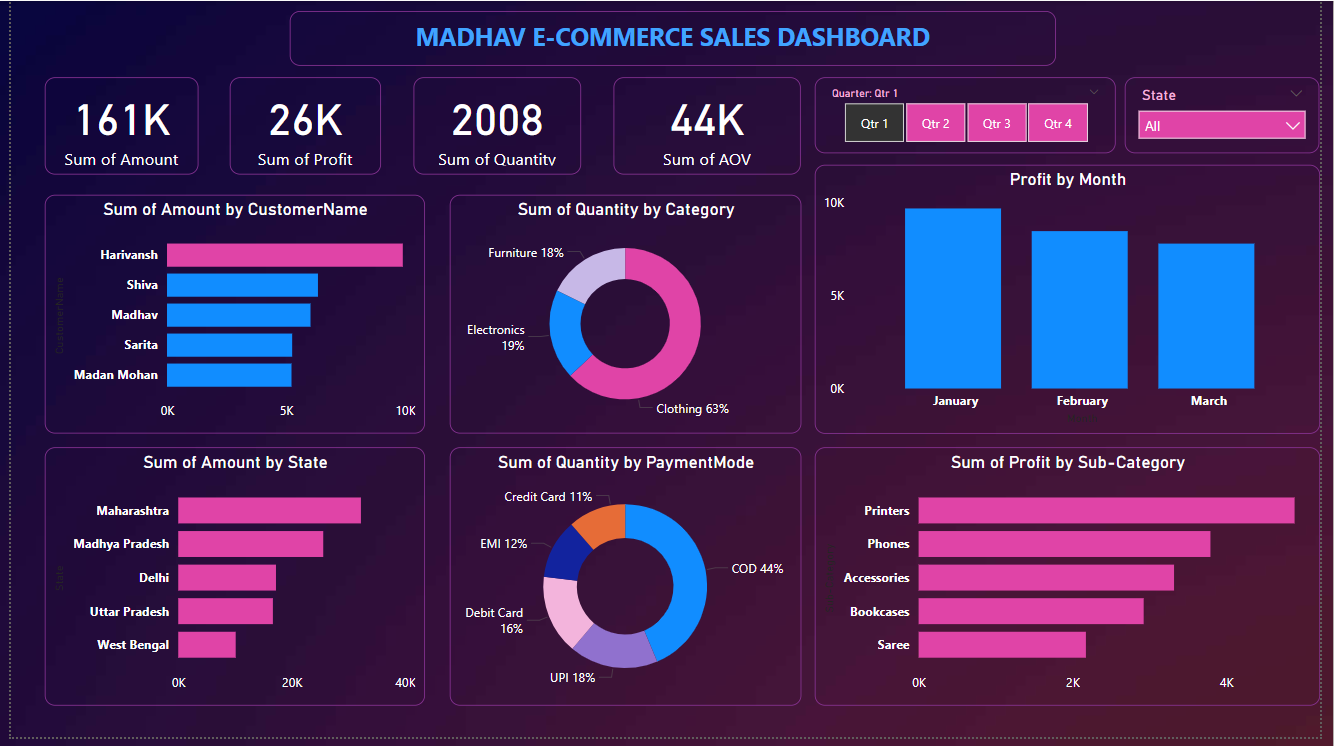

The page's visual inventory and layout, read from the dashboard file:
{"tool":"powerbi","page":{"name":"Page 1","canvas":[1280,720],"ordinal":0},"visuals":[{"type":"columnChart","title":"Profit by Month","fields":{"Category":["Orders.Order Date.Variation.Date Hierarchy.Month"],"Y":["Details.Profit"]},"box":[786.3,160.2,494,262.9],"z":1},{"type":"barChart","fields":{"Category":["Details.Sub-Category"],"Y":["Details.Profit"]},"box":[786.3,436.6,494,253.1],"z":2},{"type":"textbox","box":[272.7,9.8,749.6,53.8],"z":3},{"type":"donutChart","fields":{"Category":["Details.Category"],"Y":["Details.Quantity"]},"box":[429.2,189.5,343.6,233.6],"z":4},{"type":"donutChart","fields":{"Y":["Details.Quantity"],"Category":["Details.PaymentMode"]},"box":[429.2,436.6,343.6,253.1],"z":5},{"type":"card","fields":{"Values":["Details.Amount"]},"box":[33,74.6,150.4,95.4],"z":6},{"type":"card","fields":{"Values":["Details.Profit"]},"box":[214,74.6,148,95.4],"z":7},{"type":"card","fields":{"Values":["Details.Quantity"]},"box":[393.8,74.6,163.9,95.4],"z":8},{"type":"card","fields":{"Values":["Details.AOV"]},"box":[589.4,74.6,183.4,95.4],"z":9},{"type":"clusteredBarChart","fields":{"Category":["Orders.State"],"Y":["Details.Amount"]},"box":[33,436.6,371.7,253.1],"z":10},{"type":"barChart","fields":{"Category":["Orders.CustomerName"],"Y":["Details.Amount"]},"box":[33,189.5,371.7,233.6],"z":11},{"type":"slicer","fields":{"Values":["Orders.Order Date.Variation.Date Hierarchy.Quarter"]},"box":[786.3,74.6,294.7,74.6],"z":12},{"type":"slicer","fields":{"Values":["Orders.State"]},"box":[1089.5,74.6,190.8,74.6],"z":13}]}

Visuals, with their boxes in screenshot pixels (x1, y1, x2, y2), scaled from the page's 1280x720 canvas onto the 1334x746 screenshot:
"Profit by Month" columnChart: x1=819 y1=166 x2=1333 y2=438
barChart - Details.Sub-Category x Details.Profit: x1=819 y1=452 x2=1333 y2=715
textbox: x1=284 y1=10 x2=1065 y2=66
donutChart - Details.Category x Details.Quantity: x1=447 y1=196 x2=805 y2=438
donutChart - Details.Quantity x Details.PaymentMode: x1=447 y1=452 x2=805 y2=715
card - Details.Amount: x1=34 y1=77 x2=191 y2=176
card - Details.Profit: x1=223 y1=77 x2=377 y2=176
card - Details.Quantity: x1=410 y1=77 x2=581 y2=176
card - Details.AOV: x1=614 y1=77 x2=805 y2=176
clusteredBarChart - Orders.State x Details.Amount: x1=34 y1=452 x2=422 y2=715
barChart - Orders.CustomerName x Details.Amount: x1=34 y1=196 x2=422 y2=438
slicer - Orders.Order Date.Variation.Date Hierarchy.Quarter: x1=819 y1=77 x2=1127 y2=155
slicer - Orders.State: x1=1135 y1=77 x2=1333 y2=155
